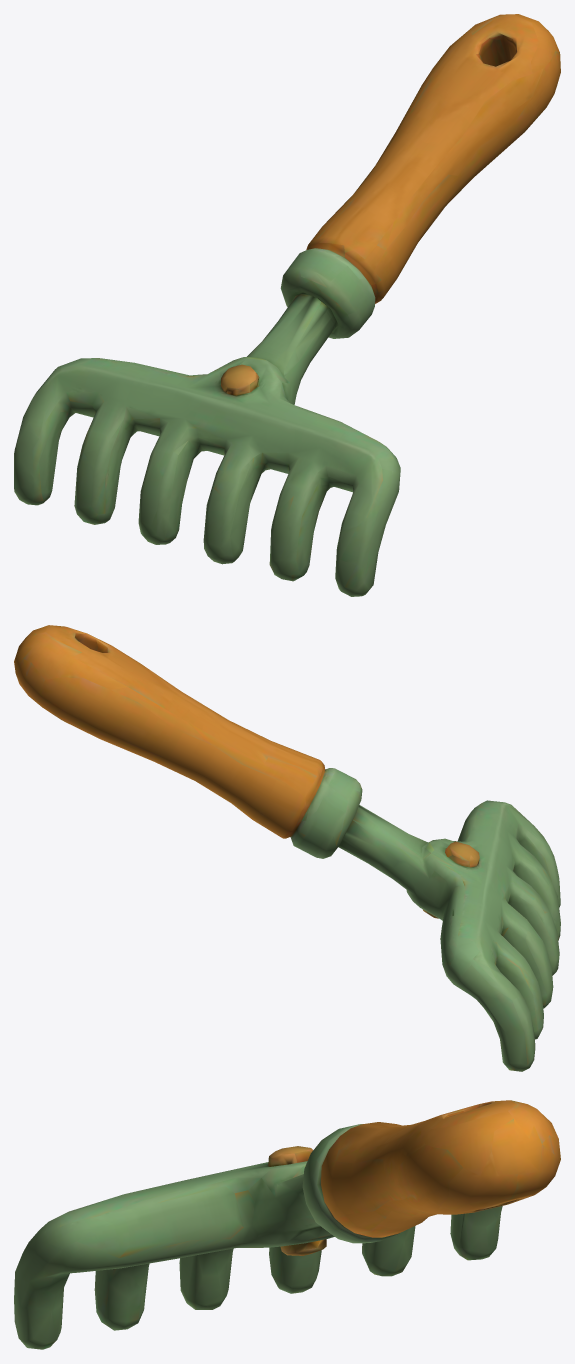
The picture shows the model from 3 angles, top to bottom: view 1: azimuth 30°, elevation 25°; view 2: azimuth 150°, elevation 25°; view 3: azimuth 270°, elevation 25°; orthographic projection. The views are drawn at different scales.
Parts seen in each view (by area): view 1: rake; view 2: rake; view 3: rake.
Part boxes in pixels (x1,y1,x2,y2): rake: (14,14,560,596); rake: (14,625,560,1071); rake: (14,1100,560,1349).
Bounding box in the file's own units: 0.4502 × 0.2834 × 0.3133.
1 material, 1 textured.
